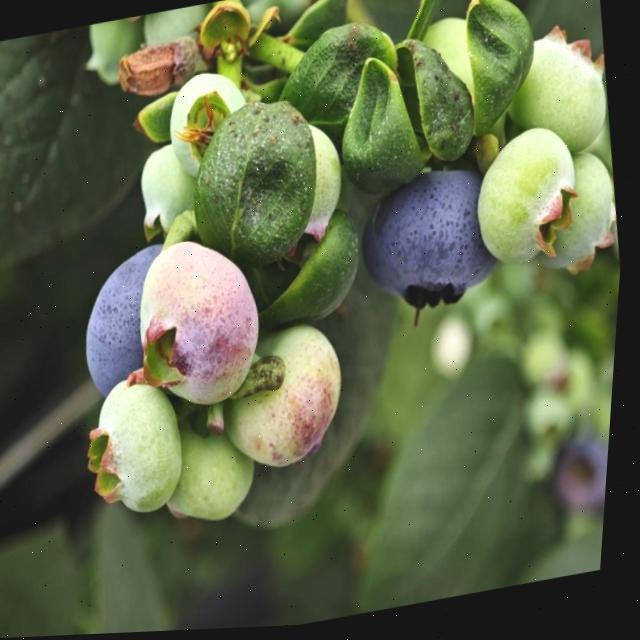RipeBlueBerry: (354, 164, 509, 325)
Semi-RipeBlueBerry: (132, 232, 279, 419)
UnripeBlueBerry: (216, 319, 362, 483), (466, 122, 591, 278), (92, 369, 203, 527), (498, 25, 619, 163)
